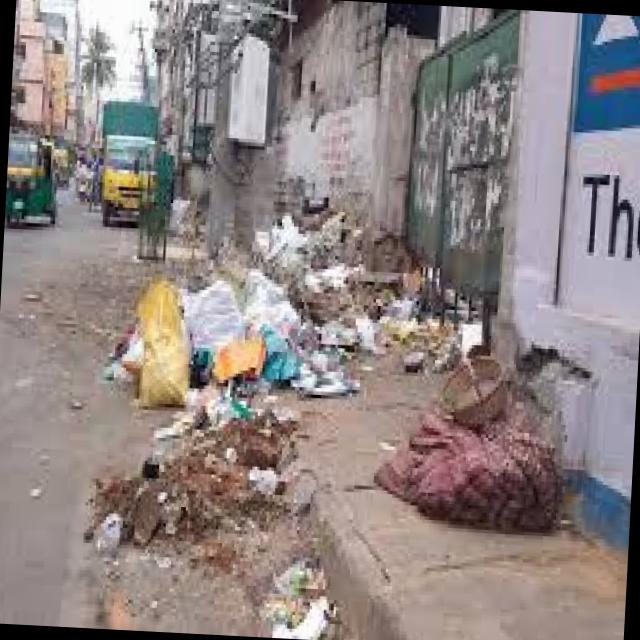garbage: (112, 216, 401, 417)
